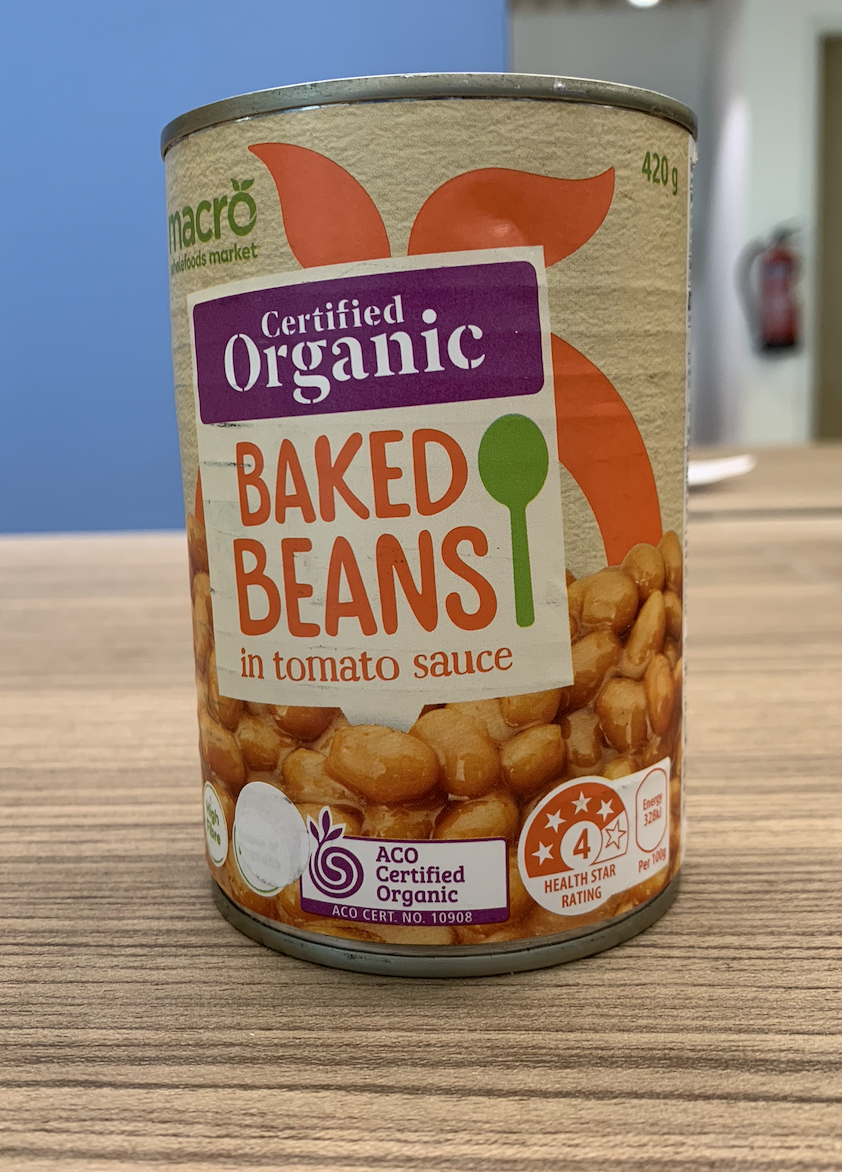Baked beans_400-499g: (202, 120, 678, 932)
